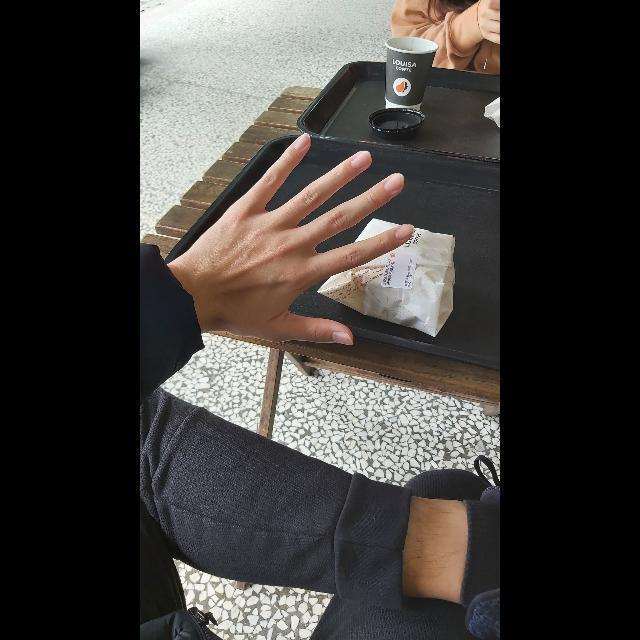bare_hand: (194, 130, 414, 357)
